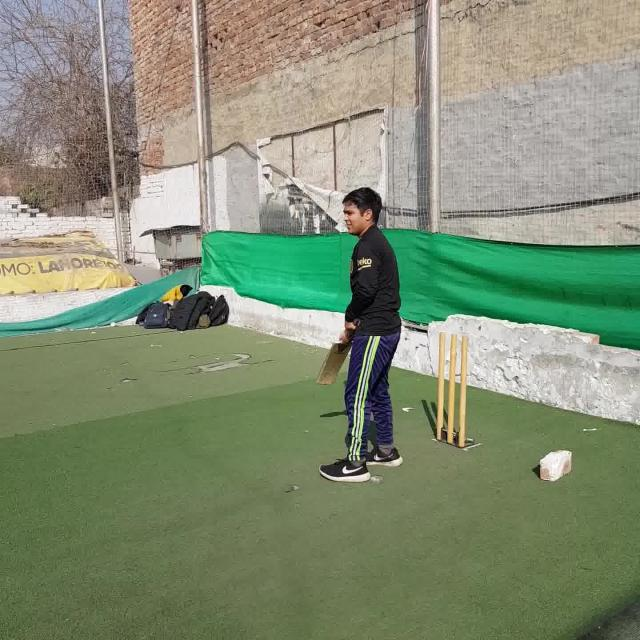bat: (317, 320, 359, 385)
